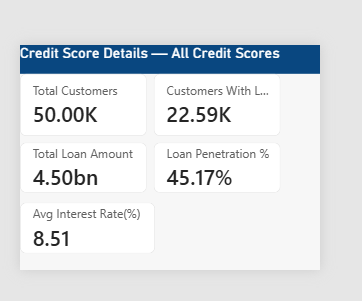

The page's visual inventory and layout, read from the dashboard file:
{"tool":"powerbi","page":{"name":"Loan Tooltip","canvas":[400,300],"ordinal":4},"visuals":[{"type":"textbox","box":[0,0,1596,38],"z":0},{"type":"cardVisual","fields":{"Data":["analysis.Total Customers"]},"box":[0,38,169,83],"z":1000},{"type":"cardVisual","fields":{"Data":["analysis.Customers With Loans"]},"box":[179,39,169,83],"z":2000},{"type":"cardVisual","fields":{"Data":["analysis.Total Loan Amount"]},"box":[0,130,169,67],"z":3000},{"type":"cardVisual","fields":{"Data":["analysis.Average Interest Rate"]},"box":[0,210,180,68],"z":4000},{"type":"cardVisual","fields":{"Data":["analysis.Loan Penetration %"]},"box":[179,130,169,67],"z":5000}]}

Visuals, with their boxes on the page's 400x300 design canvas (x1, y1, x2, y2). These are canvas units, not pixel positions in the 362x301 screenshot, which may show the page scaled, cropped or inside an application window:
textbox: bbox=(0, 0, 1596, 38)
cardVisual - analysis.Total Customers: bbox=(0, 38, 169, 121)
cardVisual - analysis.Customers With Loans: bbox=(179, 39, 348, 122)
cardVisual - analysis.Total Loan Amount: bbox=(0, 130, 169, 197)
cardVisual - analysis.Average Interest Rate: bbox=(0, 210, 180, 278)
cardVisual - analysis.Loan Penetration %: bbox=(179, 130, 348, 197)
